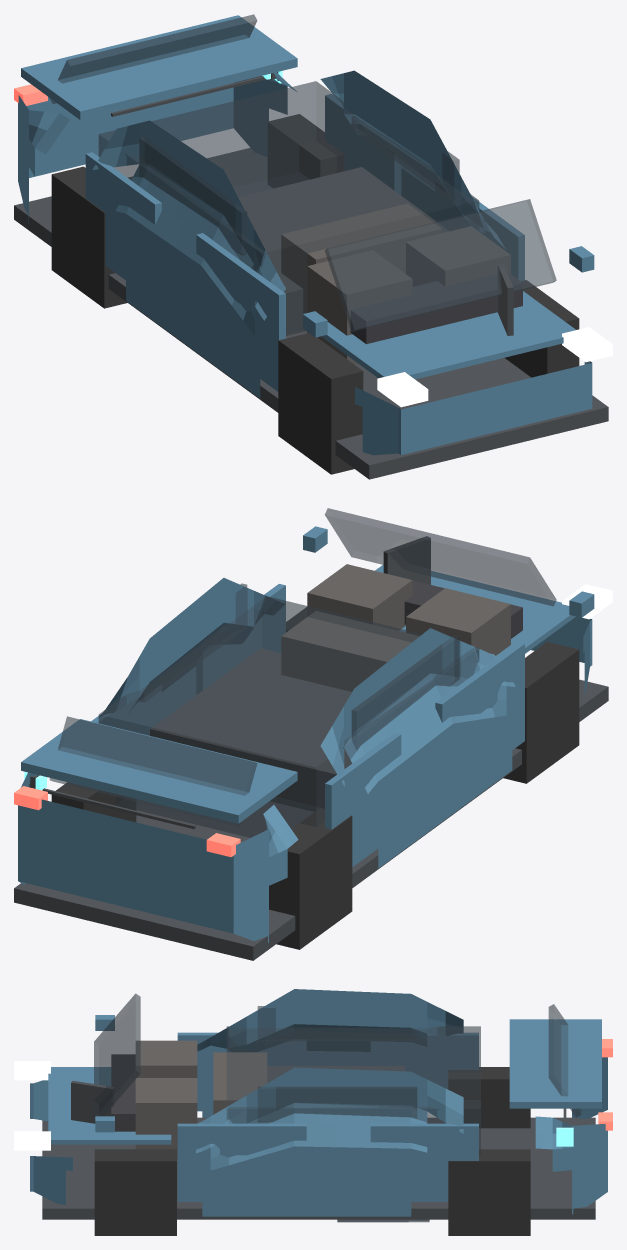
File: compact_sedan_lod2.glb
The picture shows the model from 3 angles, top to bottom: view 1: azimuth 30°, elevation 25°; view 2: azimuth 150°, elevation 25°; view 3: azimuth 270°, elevation 25°; orthographic projection. The views are drawn at different scales.
Parts seen in each view (by area): view 1: body_mesh, cab_mesh, windshield, trunk_mesh, trim_mesh, frunk_mesh, tire_fr, wheel_well_mesh, seat_rear, tire_rr, dash, seat_r (+14 smaller); view 2: body_mesh, cab_mesh, wheel_well_mesh, trunk_mesh, trim_mesh, windshield, tire_rr, rear_glass, seat_rear, tire_fr, seat_l, door_rr_mesh (+14 smaller); view 3: body_mesh, cab_mesh, trim_mesh, trunk_mesh, tire_fl, tire_rl, window_fixed_l, door_rl_mesh, door_fl_mesh, frunk_mesh, windshield, seat_l (+13 smaller).
Boxes of the visible parts, bbox=[...] form: body_mesh: bbox=[18, 70, 592, 455]; cab_mesh: bbox=[98, 81, 479, 333]; windshield: bbox=[325, 199, 556, 331]; trunk_mesh: bbox=[21, 15, 297, 119]; trim_mesh: bbox=[14, 148, 608, 479]; frunk_mesh: bbox=[321, 291, 575, 379]; tire_fr: bbox=[278, 333, 363, 474]; wheel_well_mesh: bbox=[238, 167, 448, 335]; seat_rear: bbox=[281, 203, 441, 313]; tire_rr: bbox=[51, 166, 127, 308]; dash: bbox=[350, 272, 522, 344]; seat_r: bbox=[307, 250, 412, 364]; body_mesh: bbox=[18, 578, 592, 942]; cab_mesh: bbox=[98, 596, 479, 837]; wheel_well_mesh: bbox=[150, 648, 351, 811]; trunk_mesh: bbox=[21, 719, 297, 823]; trim_mesh: bbox=[14, 679, 608, 960]; windshield: bbox=[325, 508, 556, 606]; tire_rr: bbox=[269, 808, 352, 949]; rear_glass: bbox=[49, 716, 257, 826]; seat_rear: bbox=[281, 611, 419, 691]; tire_fr: bbox=[503, 641, 579, 783]; seat_l: bbox=[307, 564, 412, 630]; door_rr_mesh: bbox=[325, 733, 401, 866]; body_mesh: bbox=[30, 989, 607, 1216]; cab_mesh: bbox=[226, 1026, 480, 1155]; trim_mesh: bbox=[42, 1117, 595, 1219]; trunk_mesh: bbox=[509, 1019, 601, 1108]; tire_fl: bbox=[94, 1149, 176, 1235]; tire_rl: bbox=[448, 1149, 530, 1235]; window_fixed_l: bbox=[257, 1086, 417, 1122]; door_rl_mesh: bbox=[370, 1123, 478, 1201]; door_fl_mesh: bbox=[177, 1123, 306, 1201]; frunk_mesh: bbox=[48, 1067, 171, 1144]; windshield: bbox=[94, 993, 140, 1118]; seat_l: bbox=[135, 1078, 197, 1158].
Bounding box in the file's own units: 2.04 × 1.73 × 4.87.
